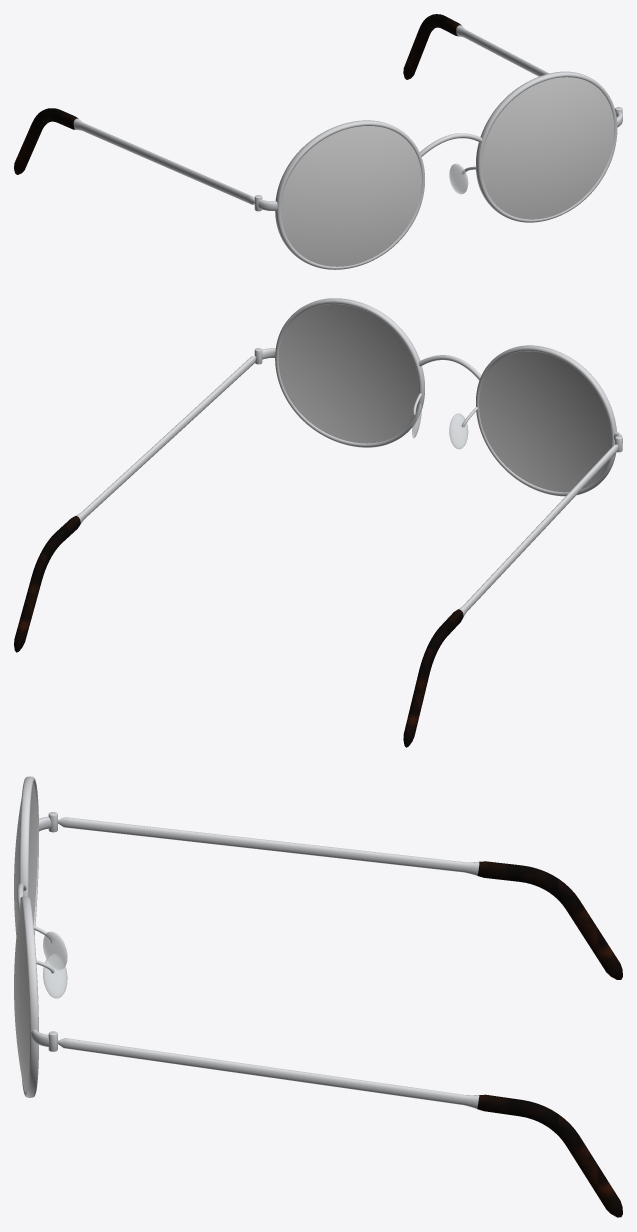
The model's file is ezra-s.glb.
The picture shows the model from 3 angles, top to bottom: view 1: azimuth 30°, elevation 25°; view 2: azimuth 150°, elevation 25°; view 3: azimuth 270°, elevation 25°; orthographic projection. The views are drawn at different scales.
Visible parts, largest first — view 1: Lens_R, Lens_L, Front, Temple_R, Temple_L, NosePads; view 2: Lens_L, Lens_R, Front, Temple_L, Temple_R, NosePads; view 3: Temple_L, Temple_R, Front, Lens_L, Lens_R, NosePads.
Part boxes in pixels (left/top/right/bottom): Lens_R: left=281, top=126, right=421, bottom=266; Lens_L: left=482, top=77, right=614, bottom=219; Front: left=254, top=71, right=622, bottom=269; Temple_R: left=14, top=108, right=254, bottom=204; Temple_L: left=403, top=14, right=615, bottom=108; NosePads: left=449, top=163, right=468, bottom=194; Lens_L: left=278, top=304, right=418, bottom=443; Lens_R: left=479, top=351, right=611, bottom=492; Front: left=254, top=298, right=622, bottom=496; Temple_L: left=14, top=356, right=256, bottom=652; Temple_R: left=403, top=444, right=618, bottom=747; NosePads: left=412, top=404, right=468, bottom=449; Temple_L: left=57, top=1038, right=622, bottom=1217; Temple_R: left=58, top=817, right=622, bottom=979; Front: left=17, top=776, right=57, bottom=1097; Lens_L: left=14, top=901, right=29, bottom=1092; Lens_R: left=14, top=783, right=37, bottom=935; NosePads: left=43, top=931, right=67, bottom=998.
Size of the model in its own units: 0.1276 by 0.0618 by 0.1354.
6 materials, 1 textured.
